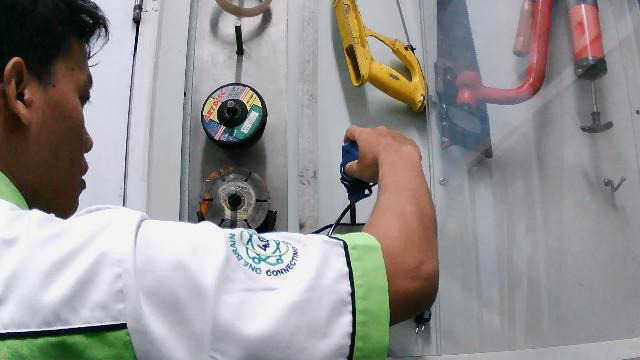solder_electrical: (329, 123, 445, 243)
